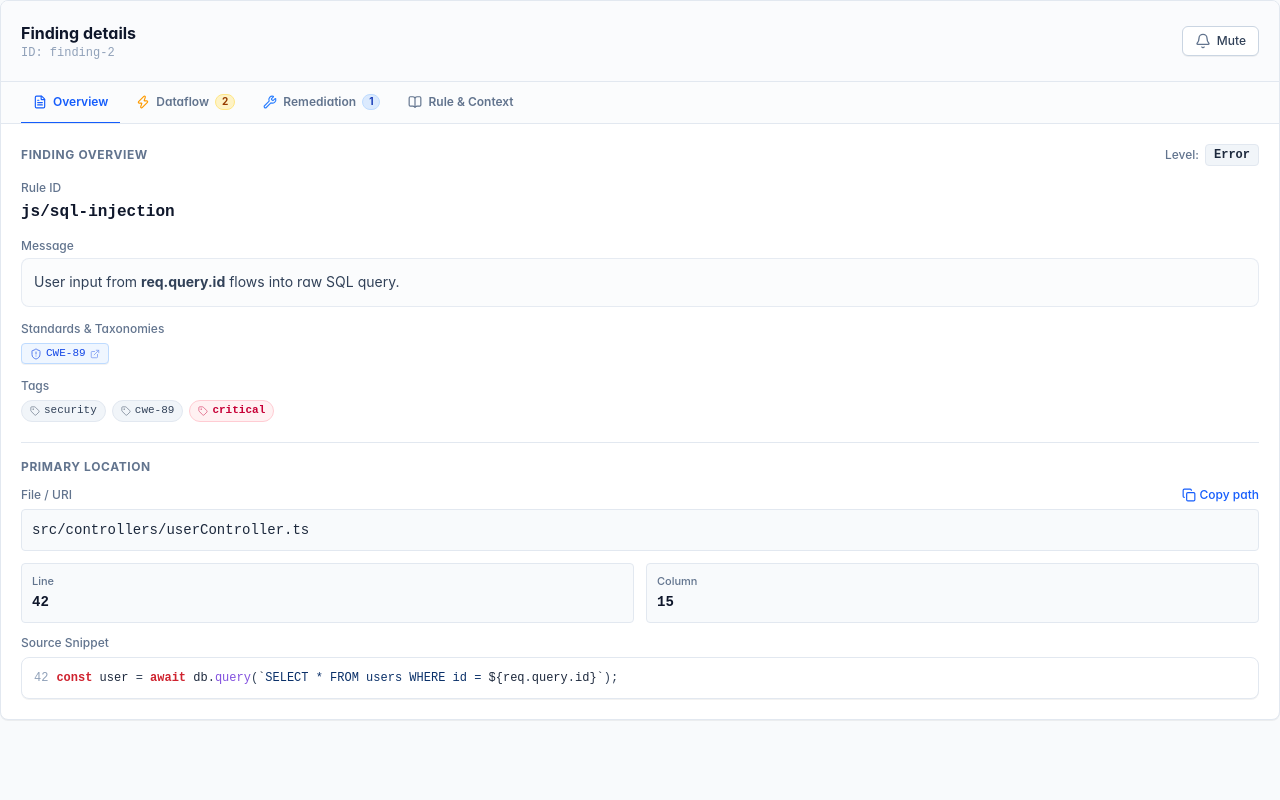
Scenario: DetailsPanel Component › switches to Remediation tab and renders diff viewer on click
Click the button "Remediation 1".
click(322, 103)  # box [251,82,392,124]
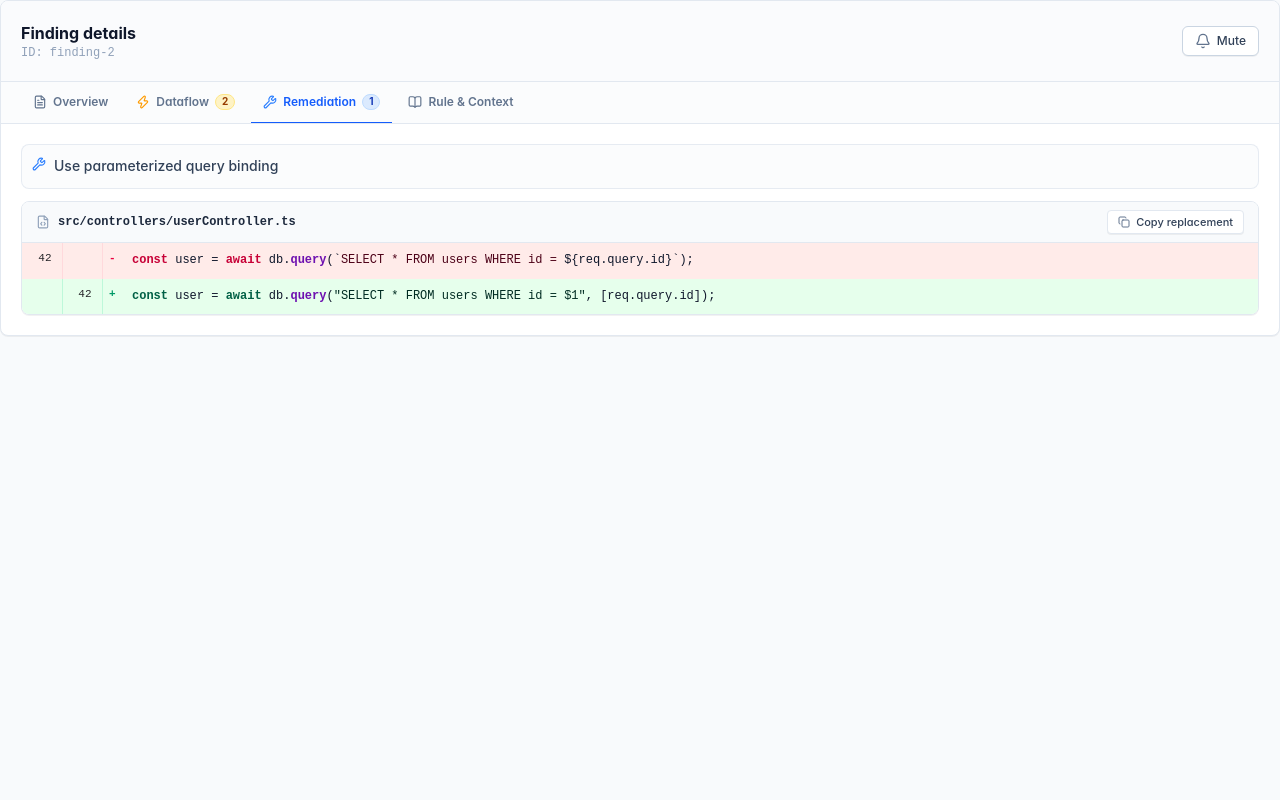
expect the text "src/controllers/userController.ts" is shown: met, box [58,214,296,230]
expect the text "Use parameterized query binding" is shown: met, box [54,157,278,174]
expect the button "Copy replacement" is shown: met, box [1107,210,1244,234]
